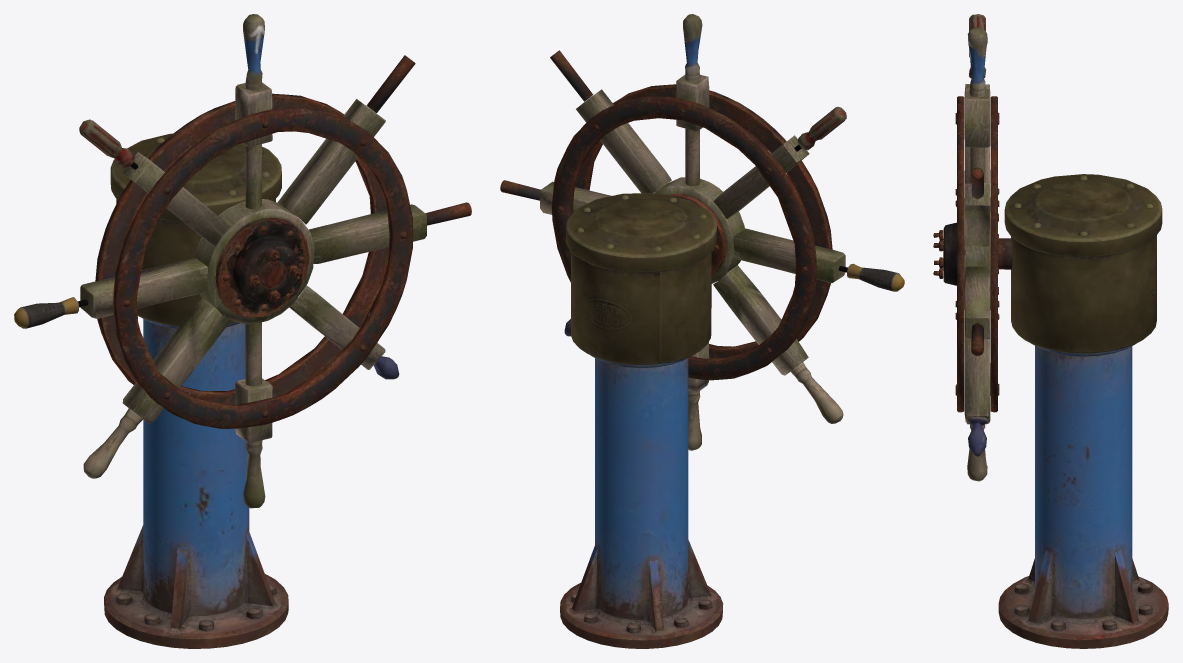
File: steeringwheel_tier2.glb
3 views of the same model, side by side, from view 1: azimuth 30°, elevation 25°; view 2: azimuth 150°, elevation 25°; view 3: azimuth 270°, elevation 25° (orthographic). The views are drawn at different scales.
Visible parts, largest first — view 1: SteeringWheel_Tier2_Wheel, SteeringWheel_Tier2_Base; view 2: SteeringWheel_Tier2_Base, SteeringWheel_Tier2_Wheel; view 3: SteeringWheel_Tier2_Base, SteeringWheel_Tier2_Wheel.
Boxes of the visible parts, left/top/right/bottom form: SteeringWheel_Tier2_Wheel: left=14, top=14, right=471, bottom=508; SteeringWheel_Tier2_Base: left=104, top=133, right=288, bottom=648; SteeringWheel_Tier2_Base: left=560, top=193, right=723, bottom=648; SteeringWheel_Tier2_Wheel: left=500, top=14, right=904, bottom=450; SteeringWheel_Tier2_Base: left=998, top=174, right=1168, bottom=648; SteeringWheel_Tier2_Wheel: left=933, top=14, right=1012, bottom=481.
Bounding box in the file's own units: 1.07 × 1.44 × 0.5256.
Materials: 1 (1 with a texture image).
